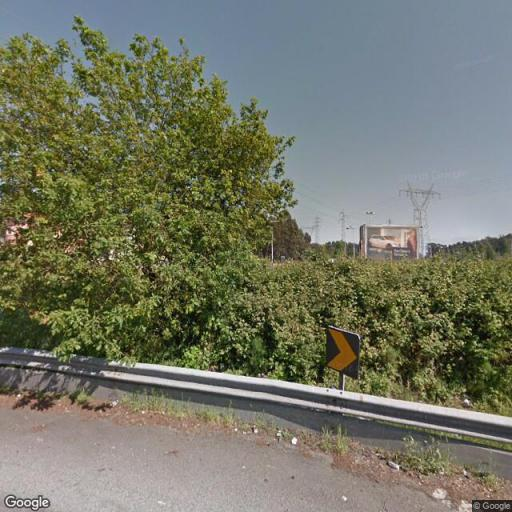ss_3: (314, 213, 322, 243)
ss_4: (338, 207, 350, 240)
wt_5: (401, 181, 443, 253)
